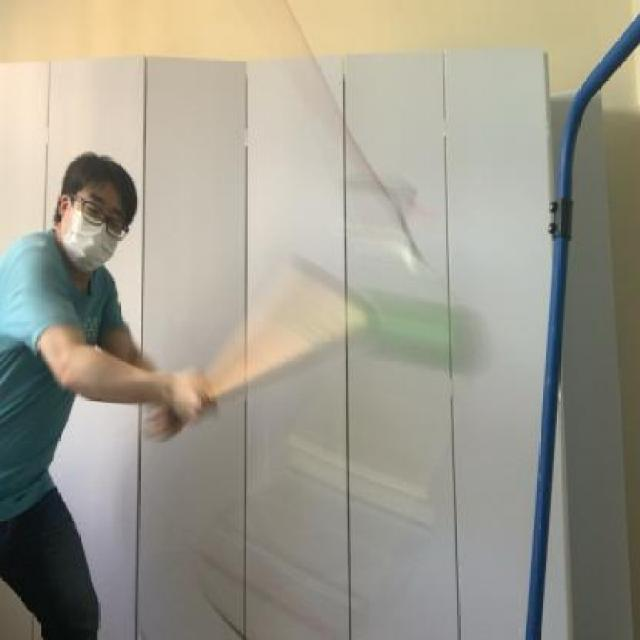baseball: (377, 278, 475, 372)
